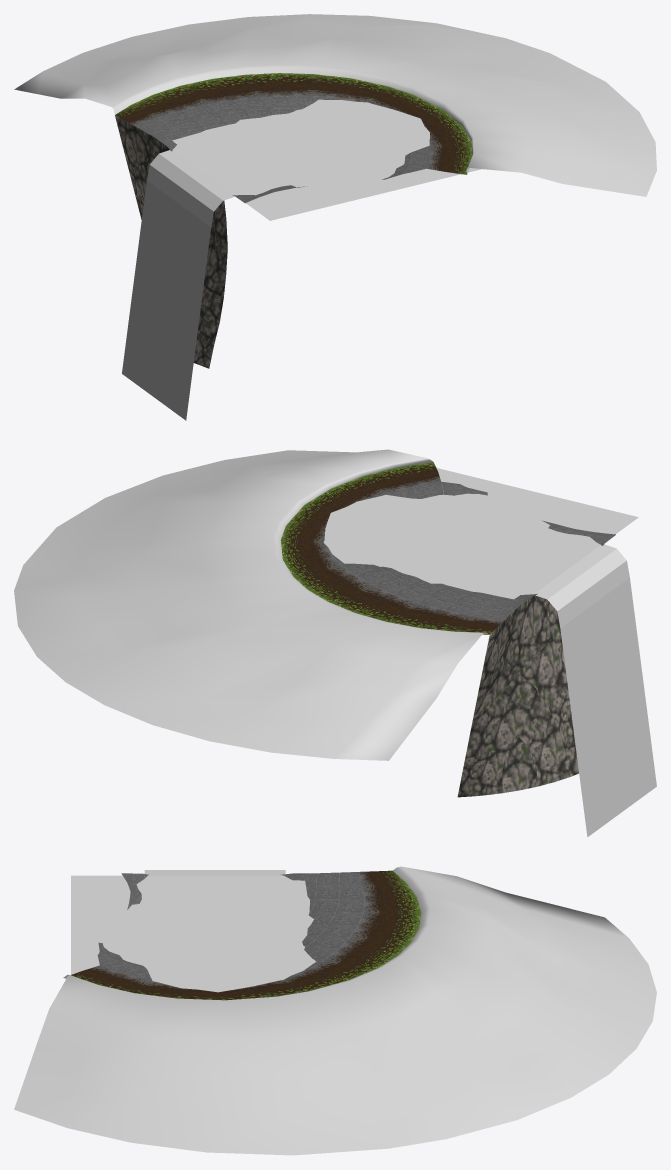
File: HUBCentralFlorA.fbx
The picture shows the model from 3 angles, top to bottom: view 1: azimuth 30°, elevation 25°; view 2: azimuth 150°, elevation 25°; view 3: azimuth 270°, elevation 25°; orthographic projection. The views are drawn at different scales.
Parts seen in each view (by area): view 1: Retopo_Plane.001, Plane, Retopo_Plane.002; view 2: Retopo_Plane.001, Plane, Retopo_Plane.002; view 3: Retopo_Plane.001, Plane, Retopo_Plane.002.
Part boxes in pixels (bbox=[...]): Retopo_Plane.001: bbox=[14, 14, 656, 196]; Plane: bbox=[122, 99, 481, 420]; Retopo_Plane.002: bbox=[115, 73, 472, 368]; Retopo_Plane.001: bbox=[14, 449, 488, 760]; Plane: bbox=[323, 468, 656, 837]; Retopo_Plane.002: bbox=[280, 462, 615, 797]; Retopo_Plane.001: bbox=[14, 866, 656, 1155]; Plane: bbox=[71, 870, 315, 992]; Retopo_Plane.002: bbox=[71, 870, 421, 1000].
Size of the model in its own units: 21447 by 9189 by 22356.
